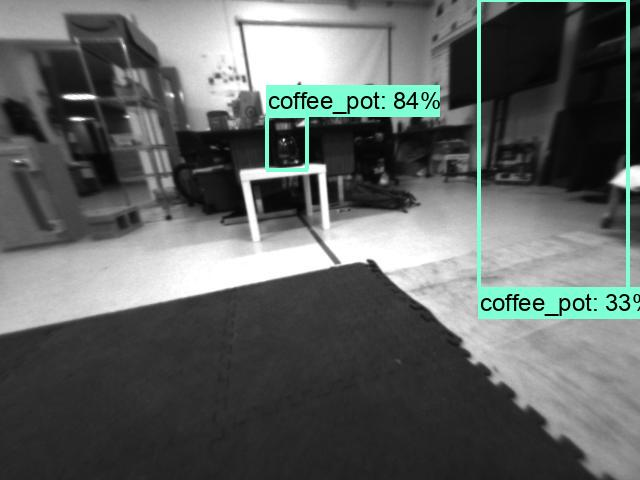coffee_pot: (263, 117, 308, 171)
